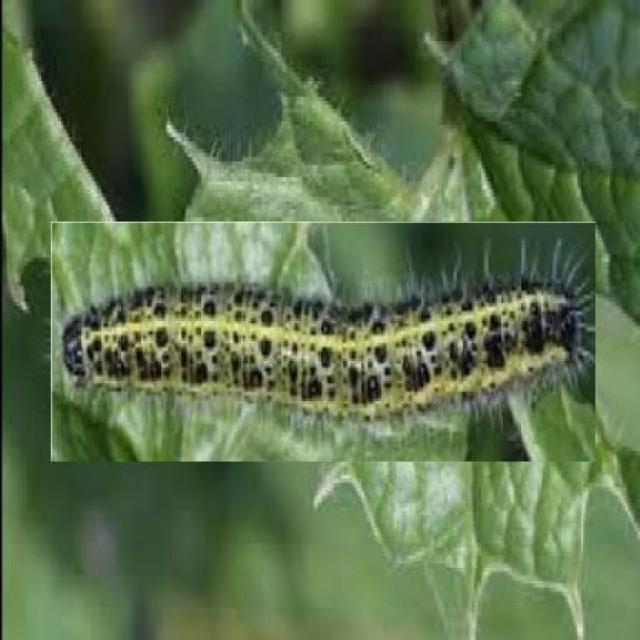Plaga: (52, 223, 598, 464)
